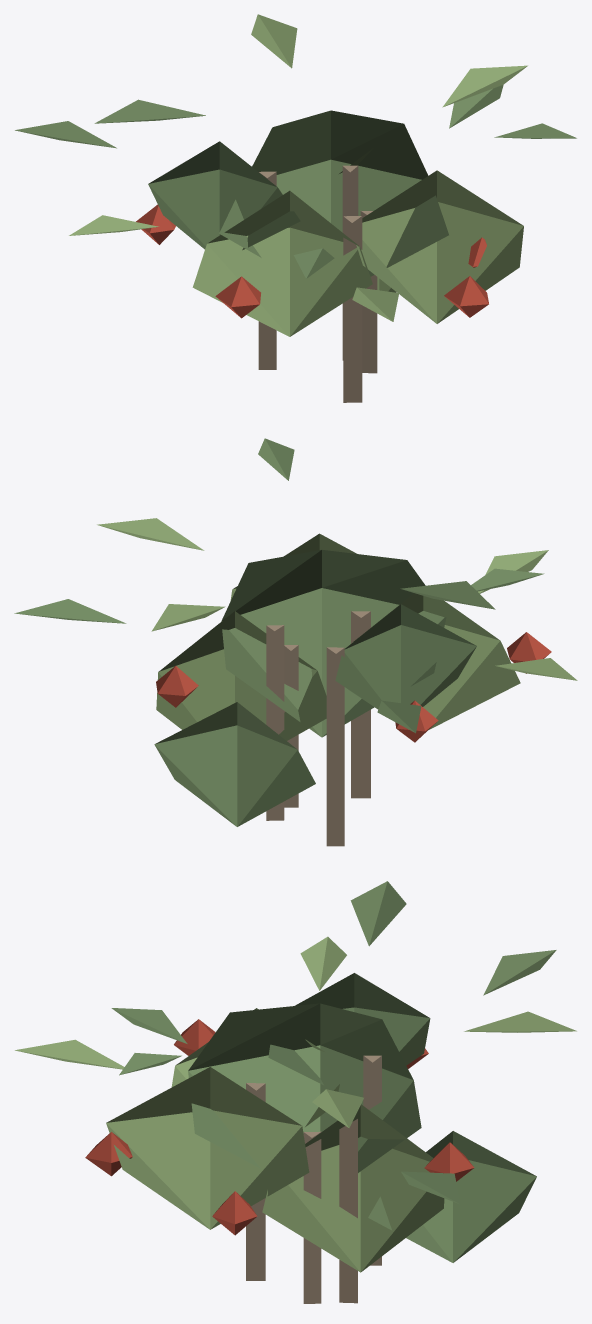
Rendered from guan.huanglu@fruiting__summer.glb.
The picture shows the model from 3 angles, top to bottom: view 1: azimuth 30°, elevation 25°; view 2: azimuth 150°, elevation 25°; view 3: azimuth 270°, elevation 25°; orthographic projection. The views are drawn at different scales.
Parts seen in each view (by area): view 1: guan.huanglu@fruiting__summer; view 2: guan.huanglu@fruiting__summer; view 3: guan.huanglu@fruiting__summer.
Part boxes in pixels (box(x1,y1,x2,y2)): guan.huanglu@fruiting__summer: box(15, 14, 576, 402); guan.huanglu@fruiting__summer: box(14, 438, 577, 846); guan.huanglu@fruiting__summer: box(15, 881, 576, 1303).
Size of the model in its own units: 4.46 by 2.46 by 4.11.
